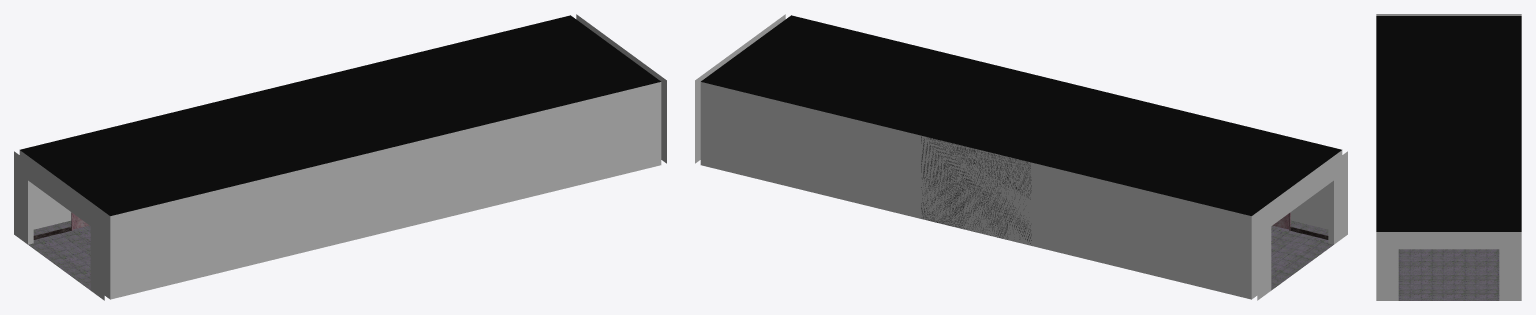
The model's file is hallway1.fbx.
3 renders of one model, left to right at view 1: azimuth 30°, elevation 25°; view 2: azimuth 150°, elevation 25°; view 3: azimuth 270°, elevation 25°, orthographic. The views are drawn at different scales.
Parts seen in each view (by area): view 1: Material2.002, Material3, Material2.003; view 2: Material2.002, Material3, Material2.003; view 3: Material3, Material2.003, Material2.002.
Part boxes in pixels (<box>): Material2.002: <box>14,14,666,300</box>; Material3: <box>20,15,660,215</box>; Material2.003: <box>28,220,90,290</box>; Material2.002: <box>695,14,1347,300</box>; Material3: <box>701,15,1341,243</box>; Material2.003: <box>1271,220,1333,290</box>; Material3: <box>1376,16,1521,231</box>; Material2.003: <box>1398,249,1499,300</box>; Material2.002: <box>1376,14,1521,300</box>.
Bounding box in the file's own units: 83638 × 11856 × 23388.
